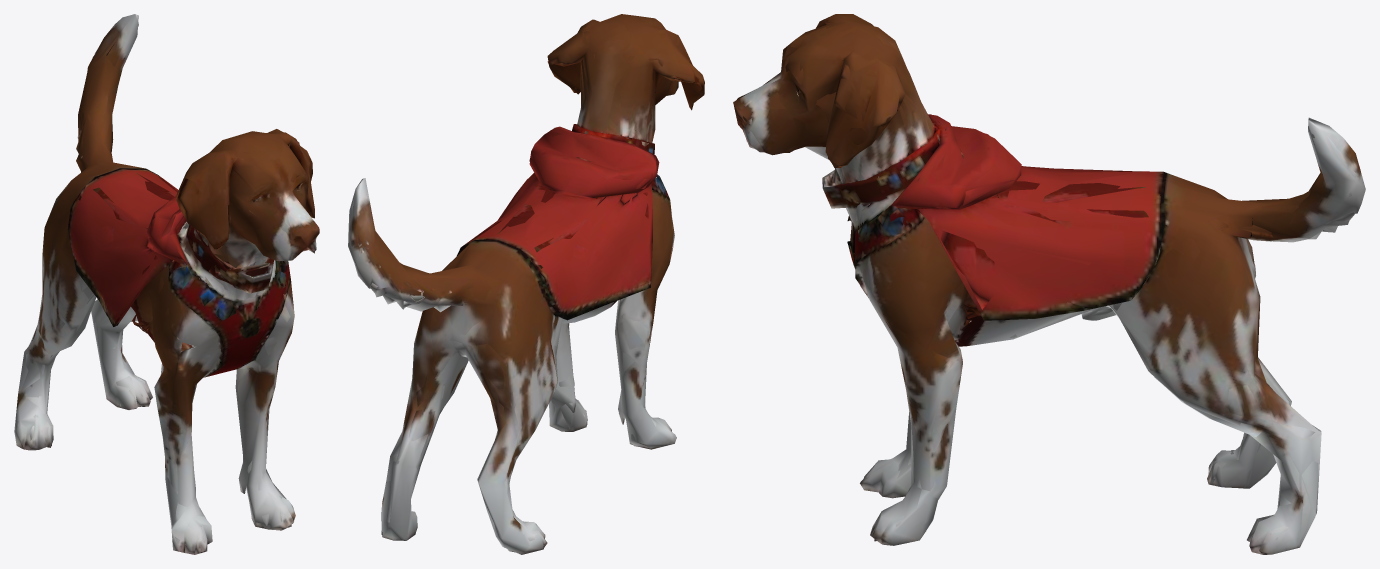
The model's file is detail_10_lo.glb.
The picture shows the model from 3 angles, left to right: view 1: azimuth 30°, elevation 25°; view 2: azimuth 150°, elevation 25°; view 3: azimuth 270°, elevation 25°; orthographic projection. The views are drawn at different scales.
Parts seen in each view (by area): view 1: Mesh_0.001; view 2: Mesh_0.001; view 3: Mesh_0.001.
Boxes of the visible parts, <box> form: Mesh_0.001: <box>14,14,319,554</box>; Mesh_0.001: <box>348,14,704,554</box>; Mesh_0.001: <box>733,14,1365,554</box>.
Bounding box in the file's own units: 0.3548 × 0.8484 × 0.9974.
1 material, 1 textured.
